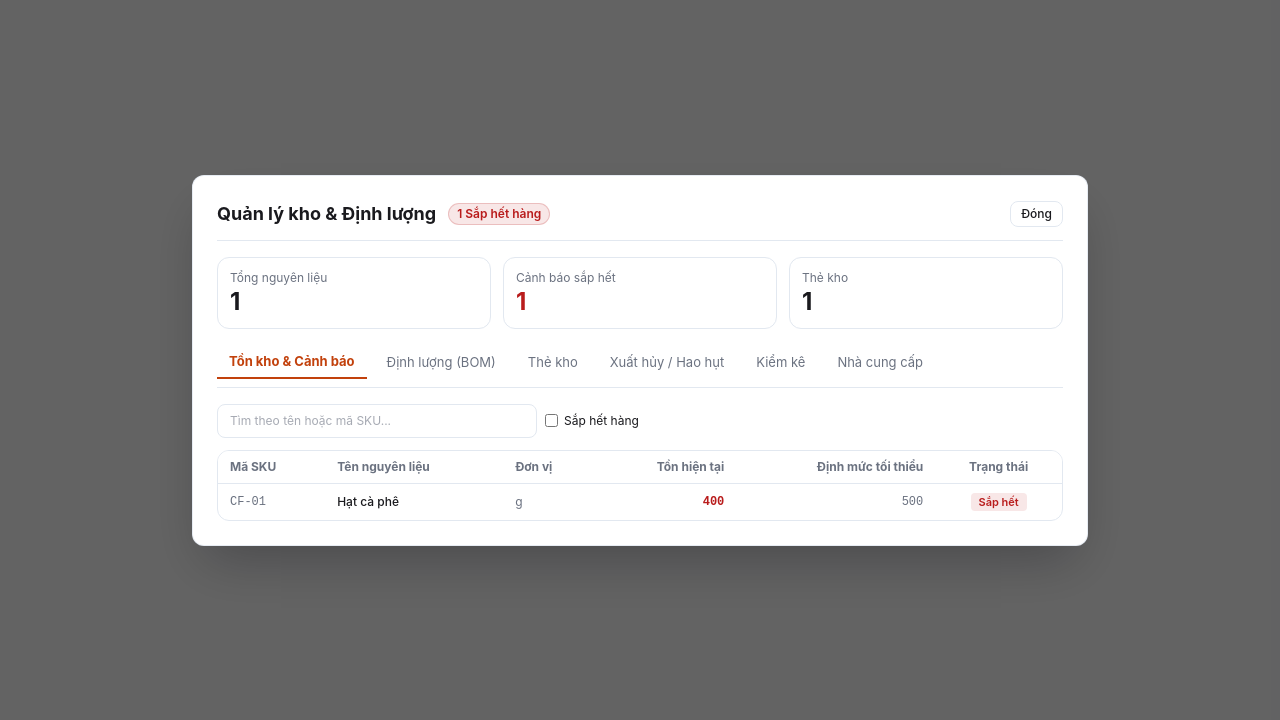
it: InventoryAdminModal.vue › supports tab navigation between stock, waste, and stocktake
Click the button with test id "tab-waste" at (667, 362), box [598,344,736,378]
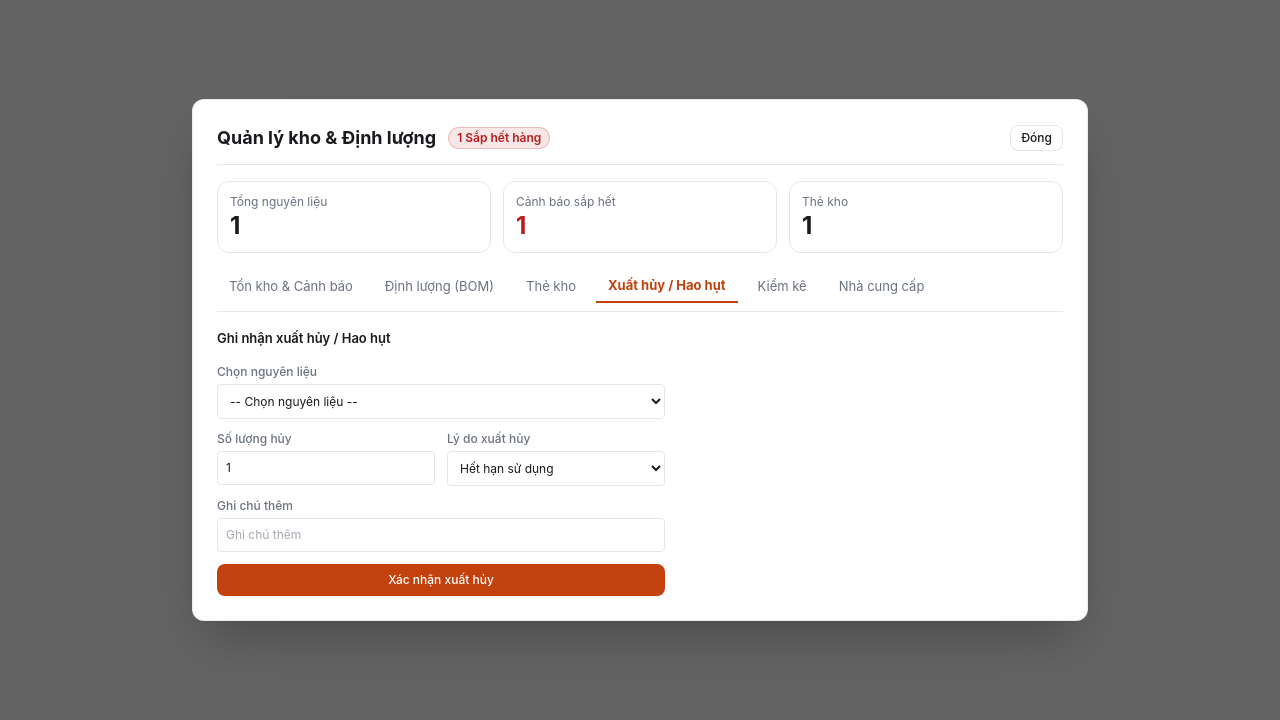
Result: the element with test id "waste-form" is shown at [217,330,665,596]
Click the button with test id "tab-stocktake" at (782, 286), box [746,269,819,303]
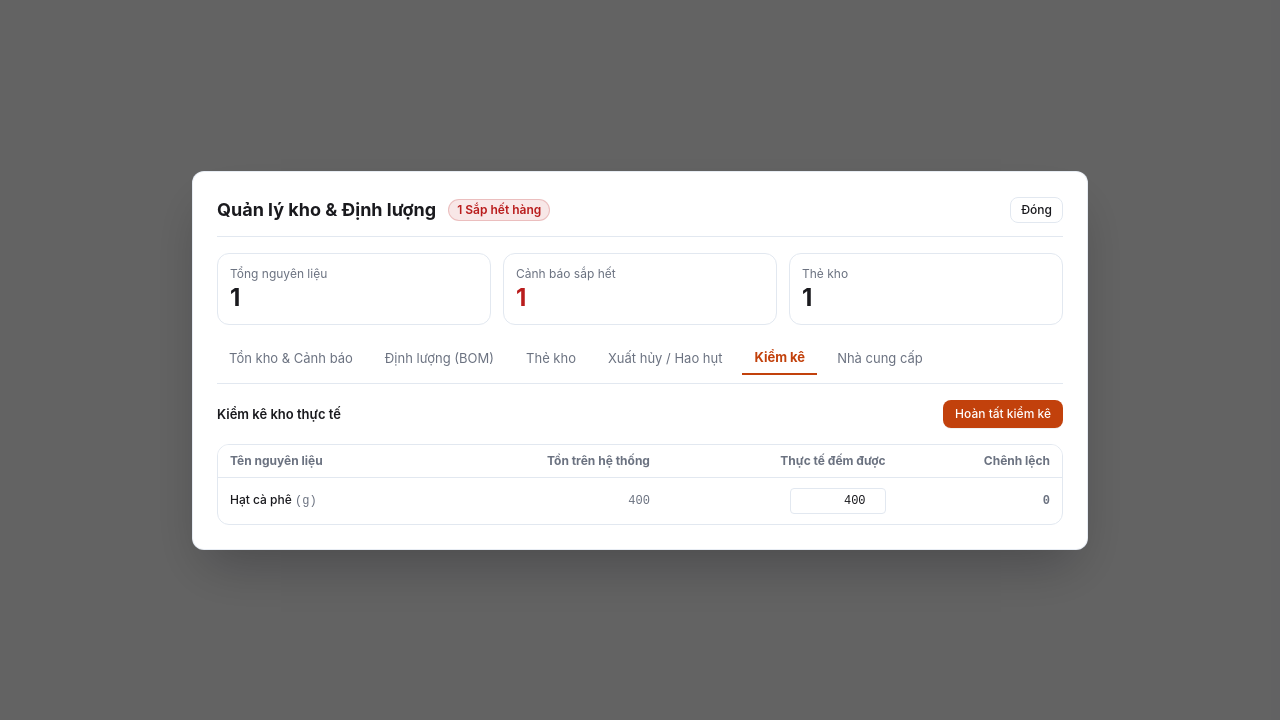
Result: the element with test id "stocktake-table" is shown at [217,400,1063,524]
